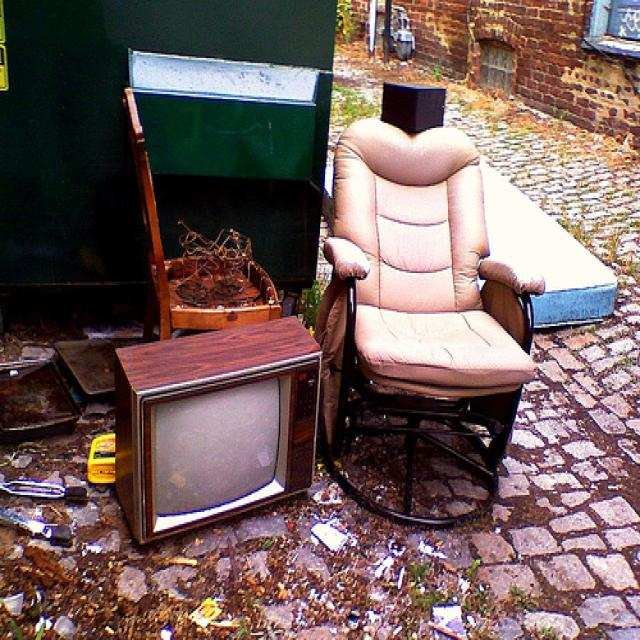chair: (315, 116, 548, 529), (121, 85, 283, 342)
tvmonitor: (111, 315, 325, 545)
